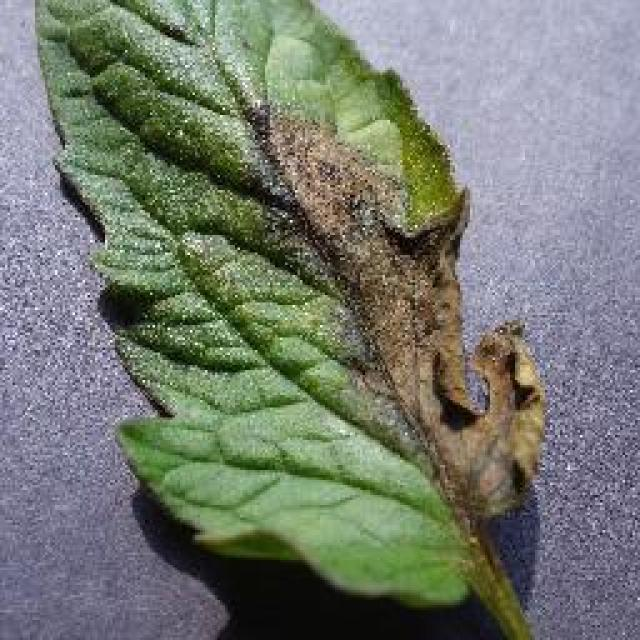Tomato Late Blight: (222, 92, 582, 640)
